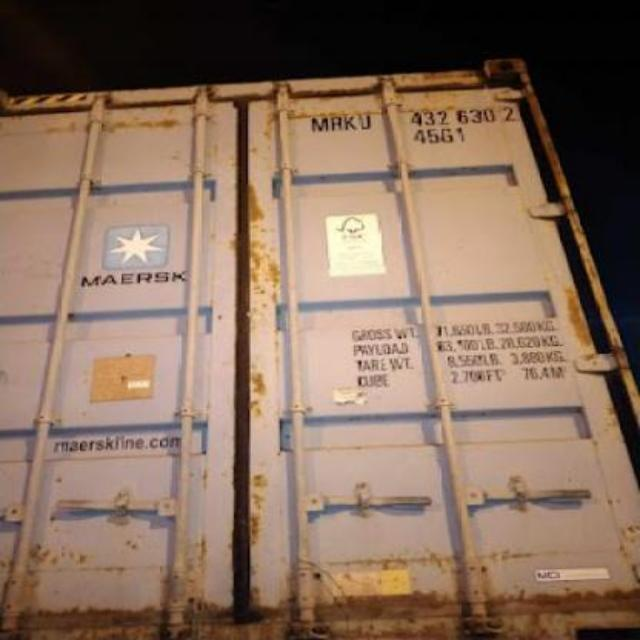0: (484, 100, 496, 124)
2: (500, 101, 520, 122), (434, 106, 450, 126)
3: (471, 104, 484, 128), (422, 108, 436, 128)
4: (410, 108, 422, 128)
6: (456, 106, 468, 126)
K: (342, 107, 356, 137)
M: (310, 116, 330, 132)
R: (330, 106, 342, 136)
U: (356, 110, 372, 132)
